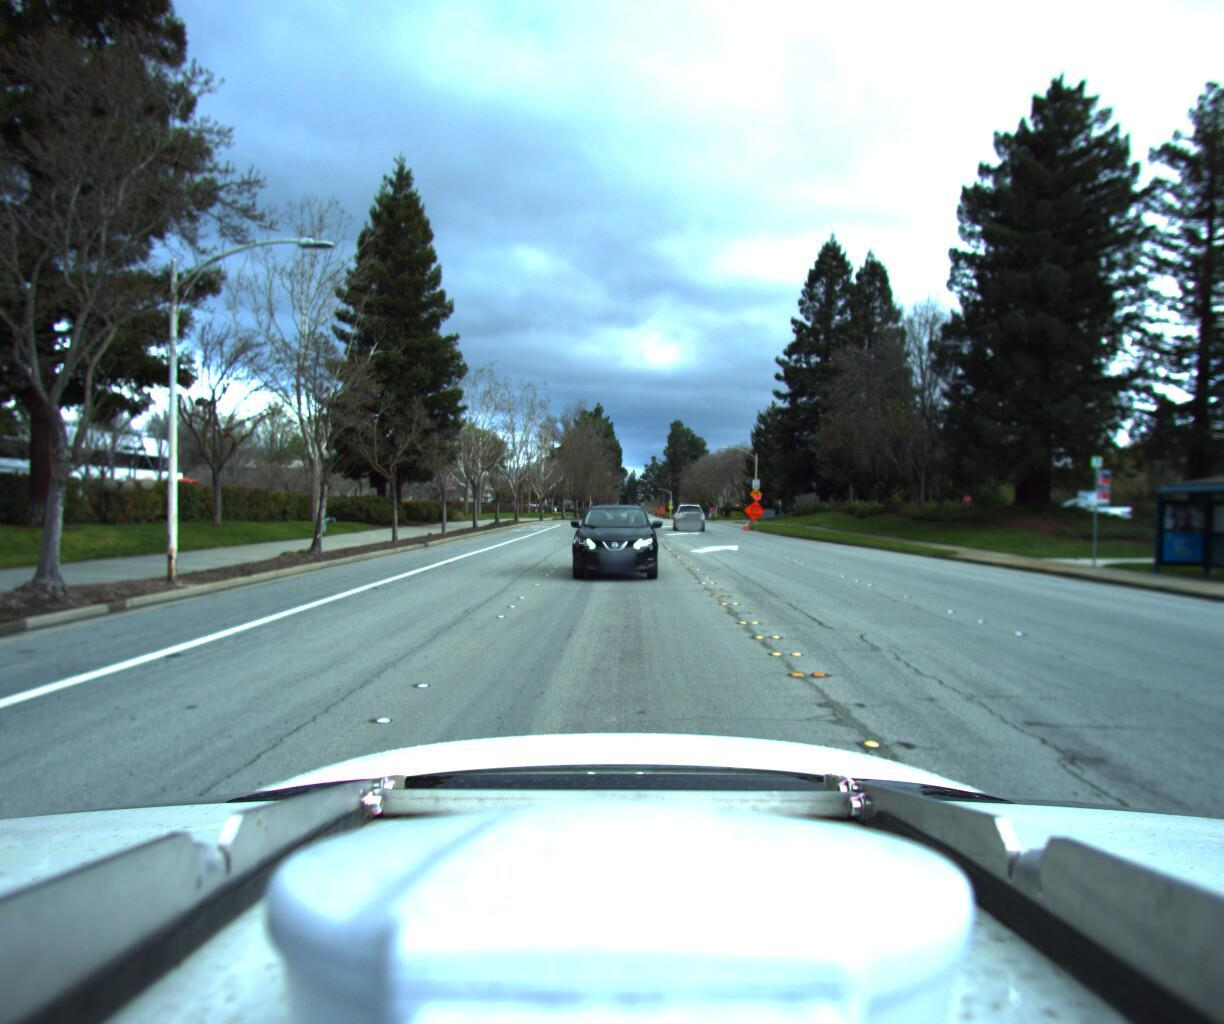car: (571, 494, 660, 577), (670, 499, 703, 528)
